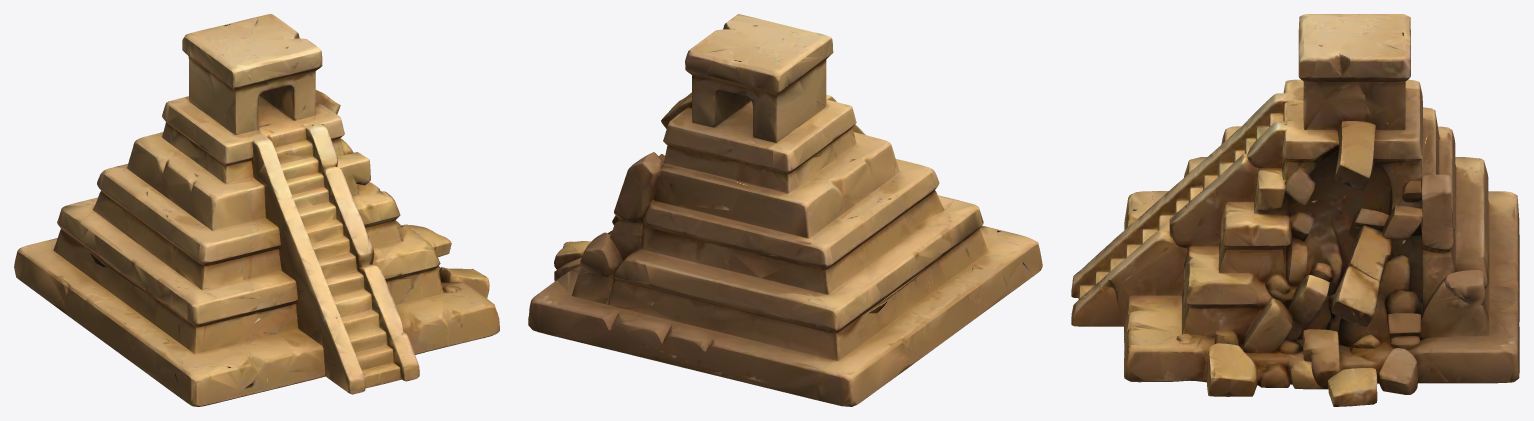
Rendered from mayan_pbr.glb.
3 renders of one model, left to right at view 1: azimuth 30°, elevation 25°; view 2: azimuth 150°, elevation 25°; view 3: azimuth 270°, elevation 25°, orthographic. The views are drawn at different scales.
Visible parts, largest first — view 1: model.007; view 2: model.007; view 3: model.007.
Part boxes in pixels (x1,y1,x2,y2): model.007: (14,14,499,406); model.007: (528,14,1042,406); model.007: (1071,14,1519,406).
Size of the model in its own units: 1.86 by 1.26 by 1.88.
Materials: 1 (1 with a texture image).
